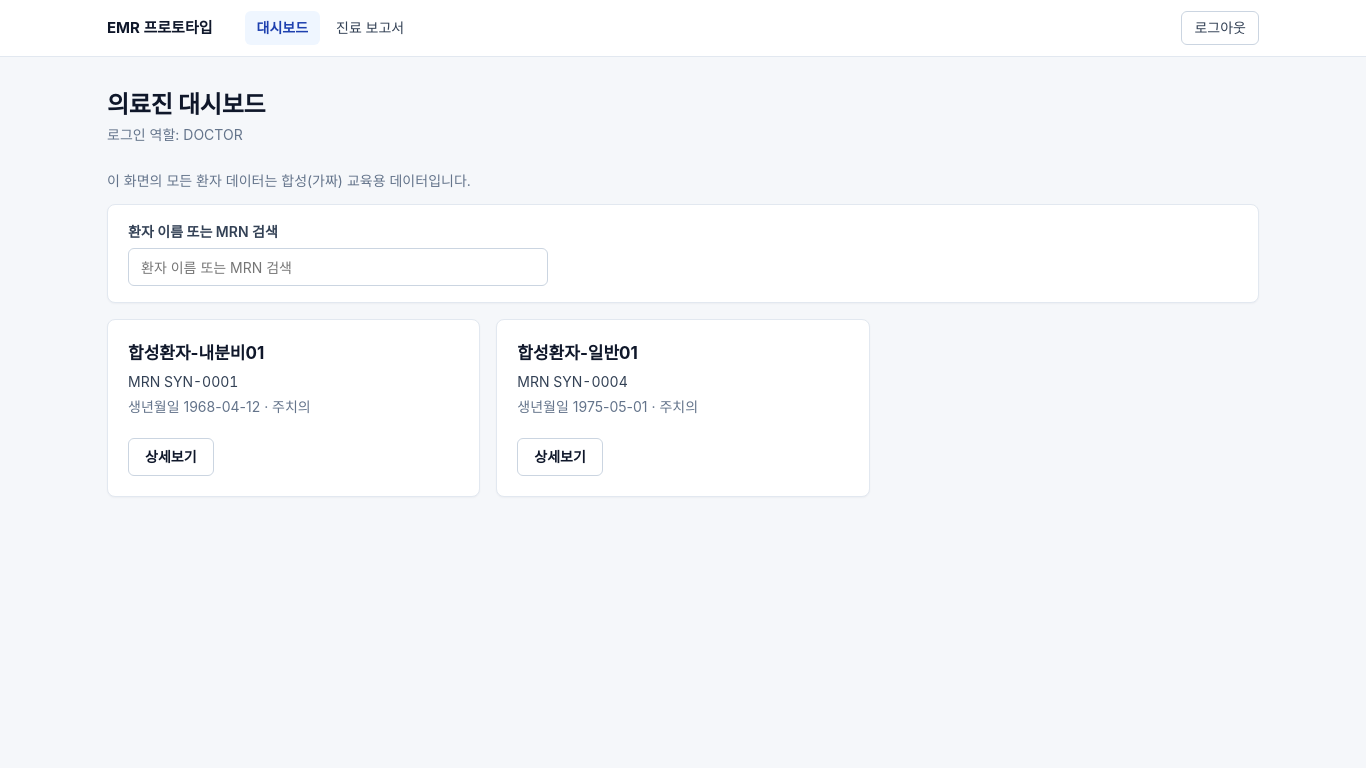
Test case: DoctorDashboard Patient Search (UX-1A) › filters by a partial MRN match
Expected: the text "합성환자-내분비01" is shown, x1=128 y1=343 x2=264 y2=363
Step 1. Type "0001" into the field labelled "환자 이름 또는 MRN 검색" → (338, 267), box x1=128 y1=248 x2=548 y2=286
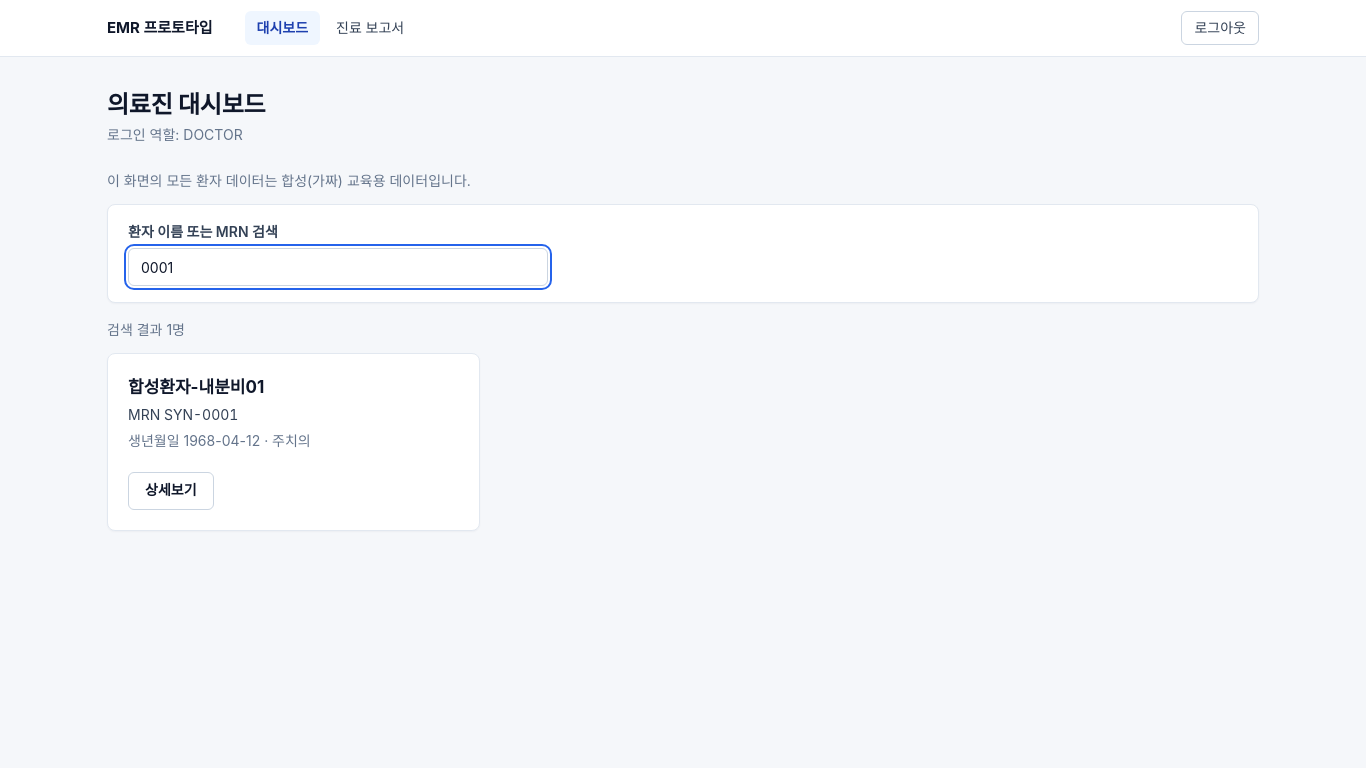
Expected: the text "합성환자-내분비01" is shown, x1=128 y1=377 x2=264 y2=397
Expected: the text "합성환자-일반01" is gone
